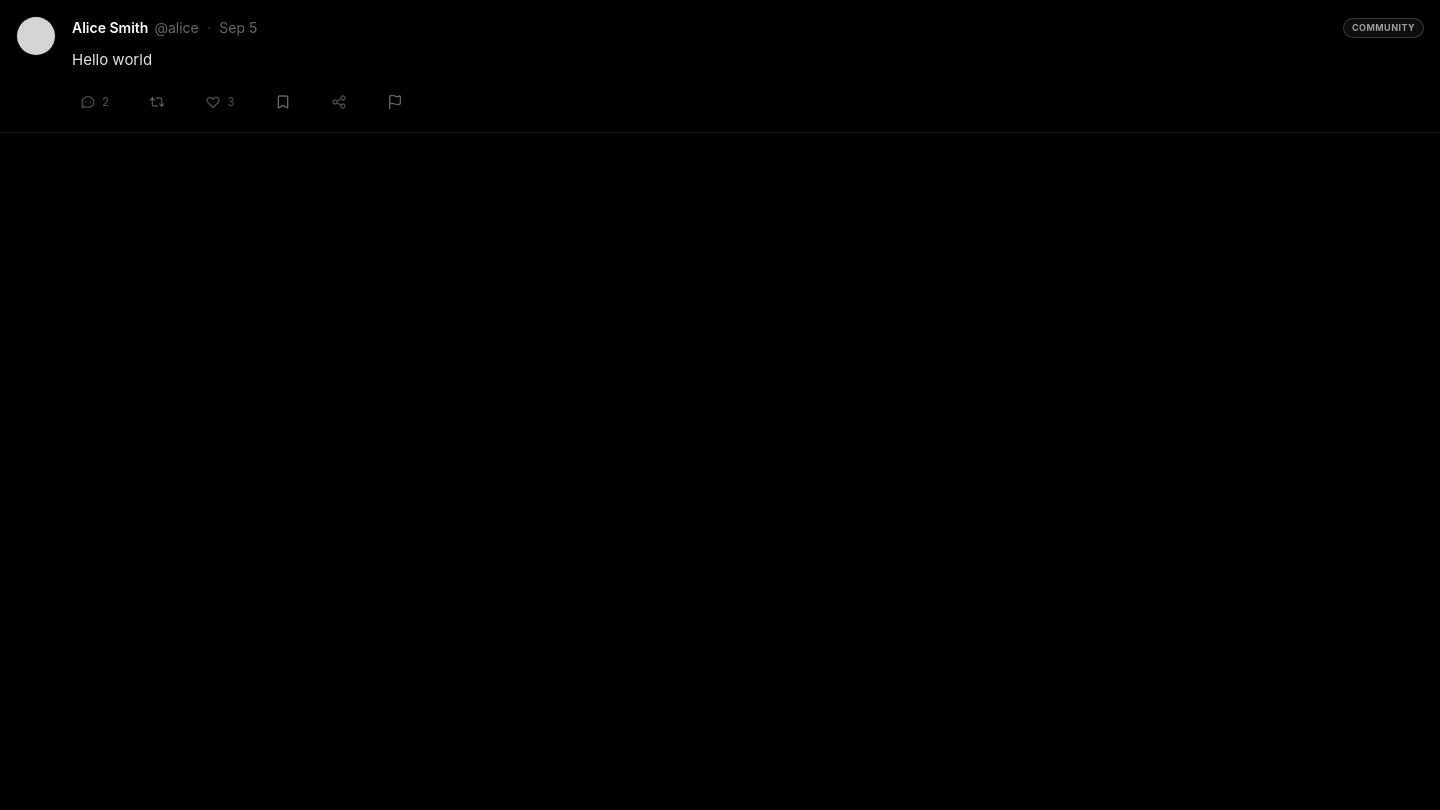
Test case: PostCard › quotes › opens the composer for a signed-in reader
This screenshot has width=1440, height=810.
Click the button named "quote post" at coordinates (157, 102), box [141,88,173,116]
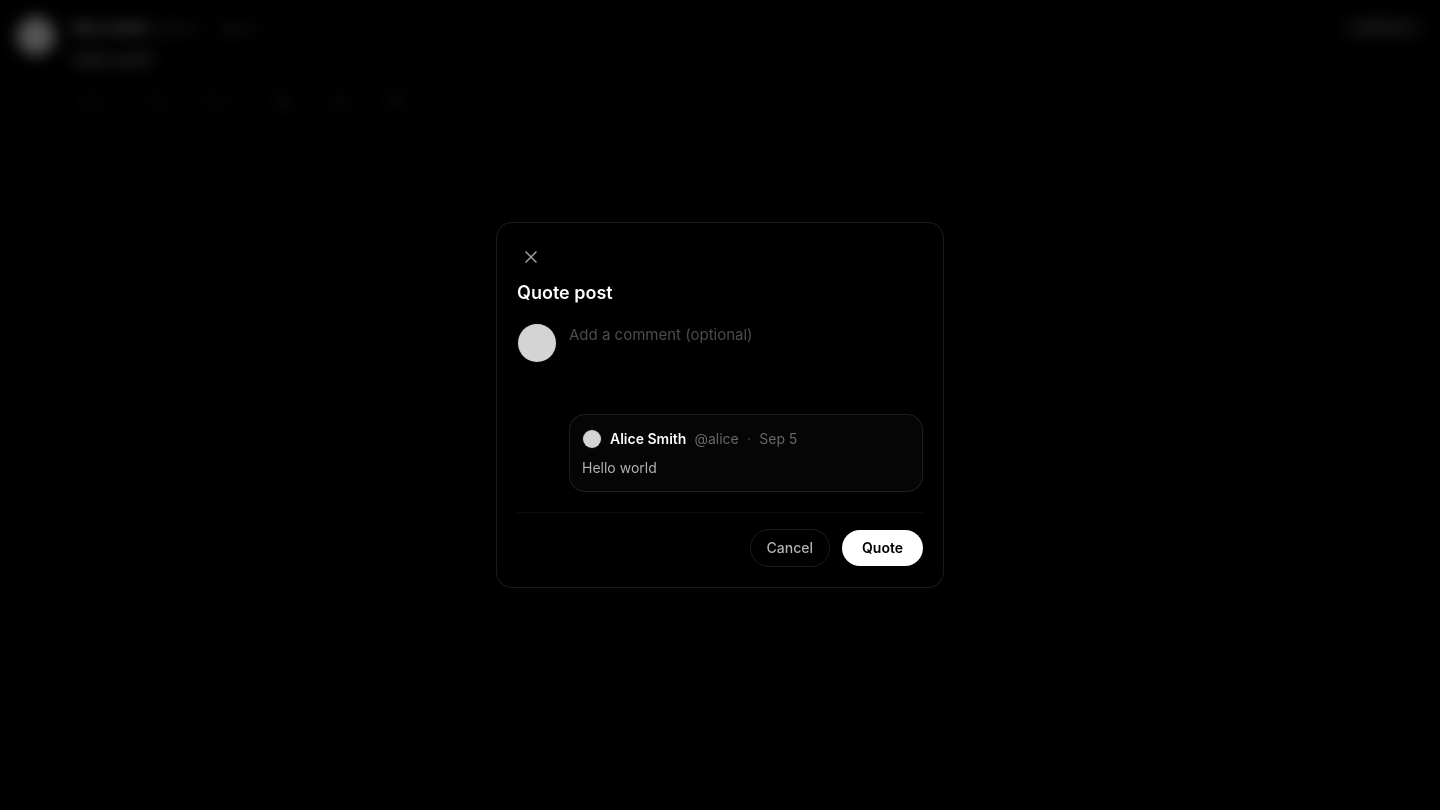
Expected: the text box with placeholder "Add a comment (optional)" is shown, [569,323,923,396]
